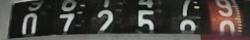digits: (96, 9, 115, 36), (137, 8, 155, 36), (59, 12, 75, 36), (21, 13, 37, 36), (219, 19, 236, 38), (178, 0, 193, 17)
